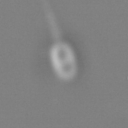normal: (40, 1, 61, 40)
